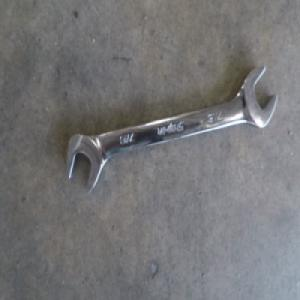Wrench: (70, 68, 273, 195)
